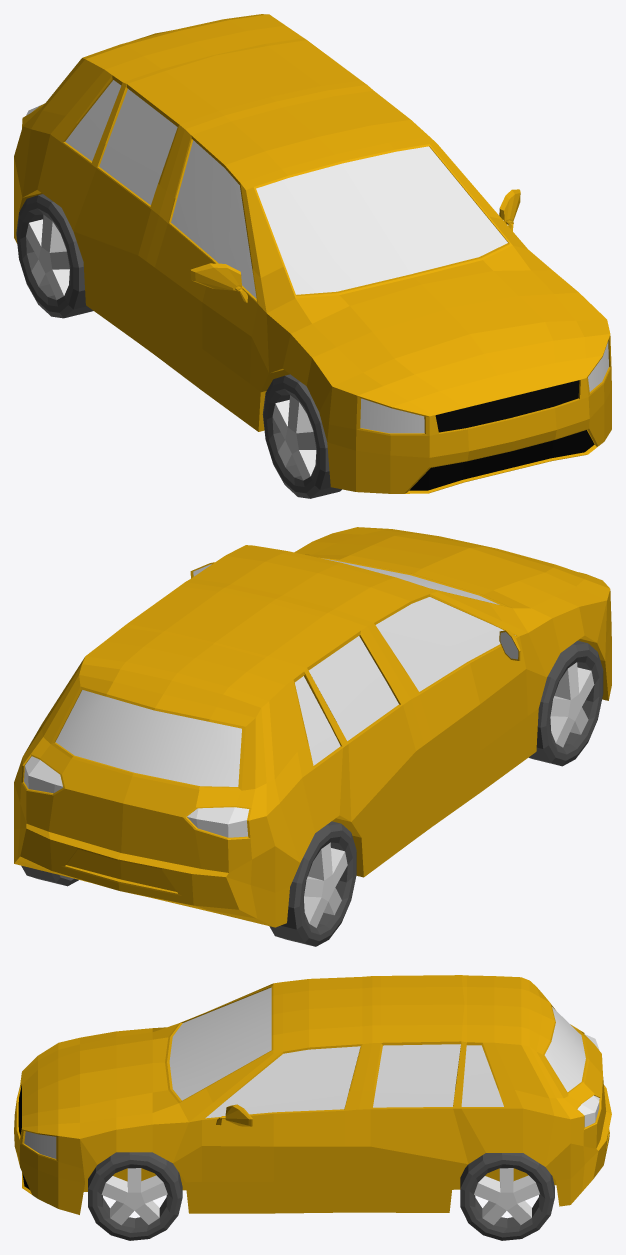
Rendered from Golf.fbx.
The picture shows the model from 3 angles, top to bottom: view 1: azimuth 30°, elevation 25°; view 2: azimuth 150°, elevation 25°; view 3: azimuth 270°, elevation 25°; orthographic projection. The views are drawn at different scales.
Visible parts, largest first — view 1: Cube, Cube.001, Cylinder; view 2: Cube, Cube.001, Cylinder; view 3: Cube, Cube.001, Cylinder.
Boxes of the visible parts, box(x1,y1,x2,y2) form: Cube: box(14, 14, 611, 493); Cube.001: box(65, 80, 608, 433); Cylinder: box(16, 194, 341, 498); Cube: box(14, 527, 611, 927); Cube.001: box(55, 558, 515, 786); Cylinder: box(21, 640, 603, 946); Cube: box(14, 975, 611, 1214); Cube.001: box(24, 987, 585, 1158); Cylinder: box(88, 1152, 554, 1240).
Size of the model in its own units: 276 by 196 by 574.
